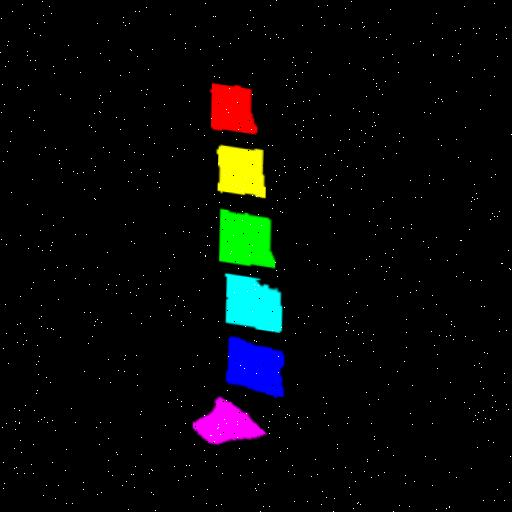L1: (210, 80, 256, 129)
L2: (216, 140, 264, 192)
L3: (218, 205, 274, 262)
L4: (224, 269, 280, 327)
L5: (225, 333, 282, 391)
S1: (190, 393, 263, 440)
